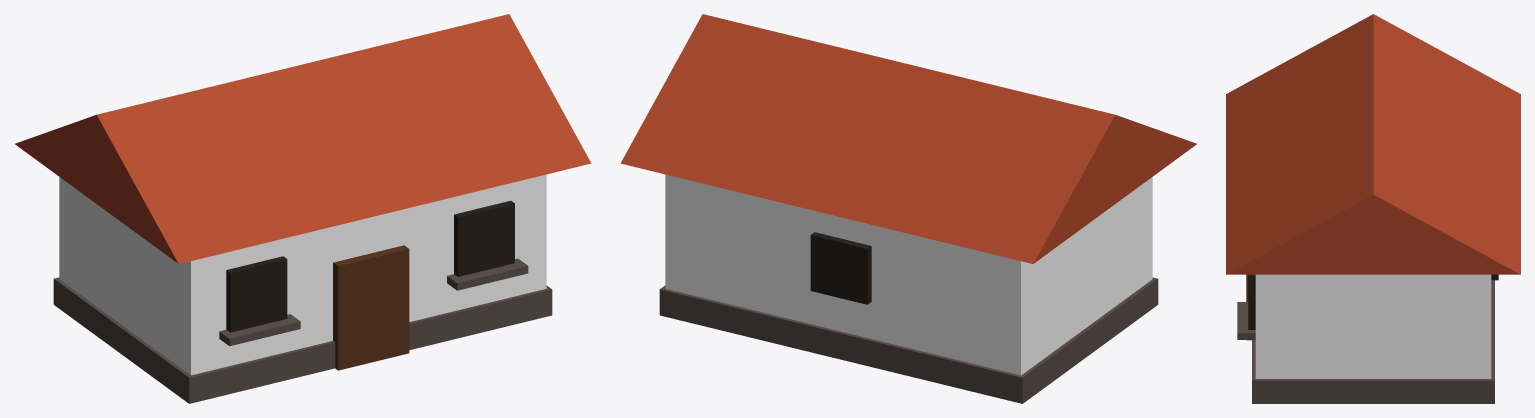
The model's file is casa.obj.
The picture shows the model from 3 angles, left to right: view 1: azimuth 30°, elevation 25°; view 2: azimuth 150°, elevation 25°; view 3: azimuth 270°, elevation 25°; orthographic projection. The views are drawn at different scales.
Visible parts, largest first — view 1: casa; view 2: casa; view 3: casa.
Part boxes in pixels (<box>): casa: <box>15,14,591,403</box>; casa: <box>620,14,1196,403</box>; casa: <box>1226,14,1520,403</box>.
Bounding box in the file's own units: 1.16 × 0.66 × 0.8.
